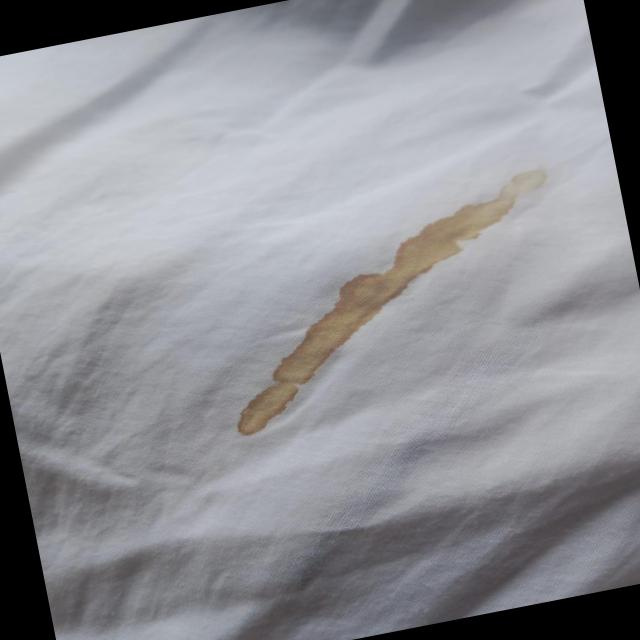stain: (194, 162, 588, 440)
